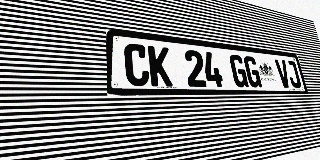2: (184, 49, 207, 87)
4: (202, 51, 224, 87)
C: (124, 43, 150, 86)
G: (229, 54, 249, 87), (243, 56, 262, 88)
J: (285, 60, 302, 88)
K: (148, 45, 173, 87)
V: (274, 59, 292, 88)
